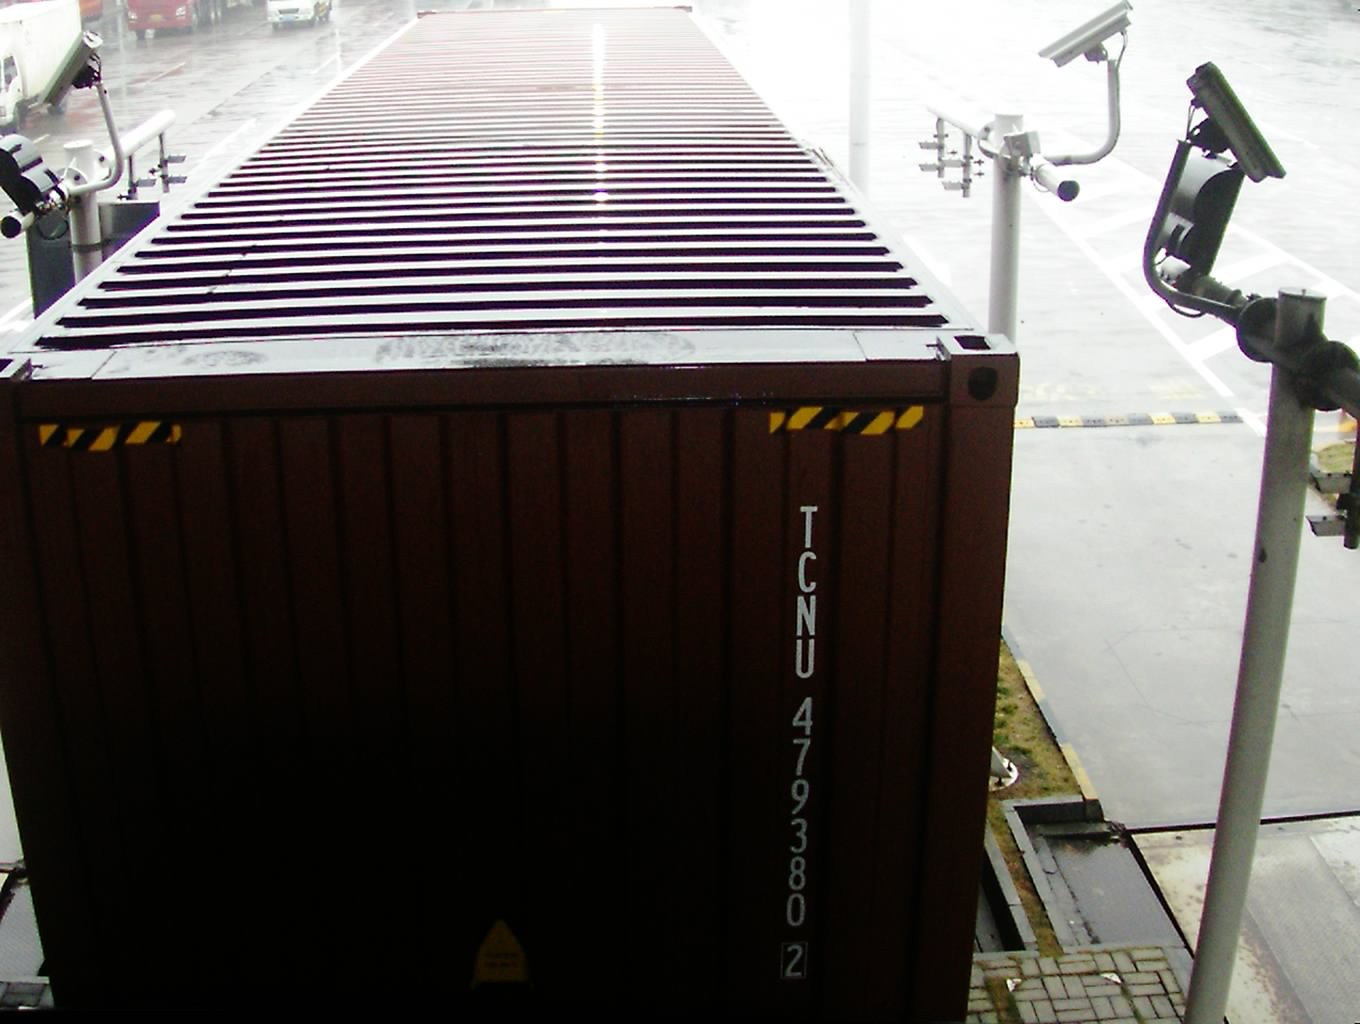words: (774, 490, 824, 989)
